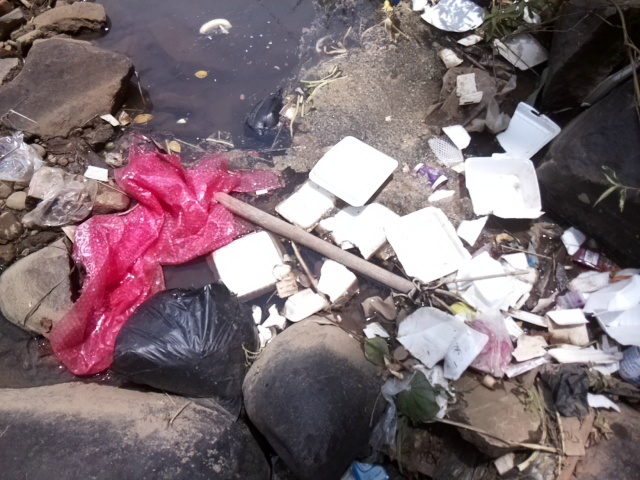Sampah_Plastik: (43, 148, 281, 379), (111, 282, 265, 410), (1, 130, 98, 230), (538, 365, 595, 421), (244, 87, 290, 141)
Sampah_Styrofoam: (388, 300, 486, 380), (376, 205, 472, 279), (305, 131, 396, 209), (460, 152, 550, 224), (202, 232, 301, 294), (321, 197, 394, 260), (285, 265, 356, 324), (494, 100, 562, 158), (585, 279, 640, 346)
